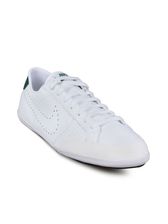shoes: (11, 63, 154, 171)
